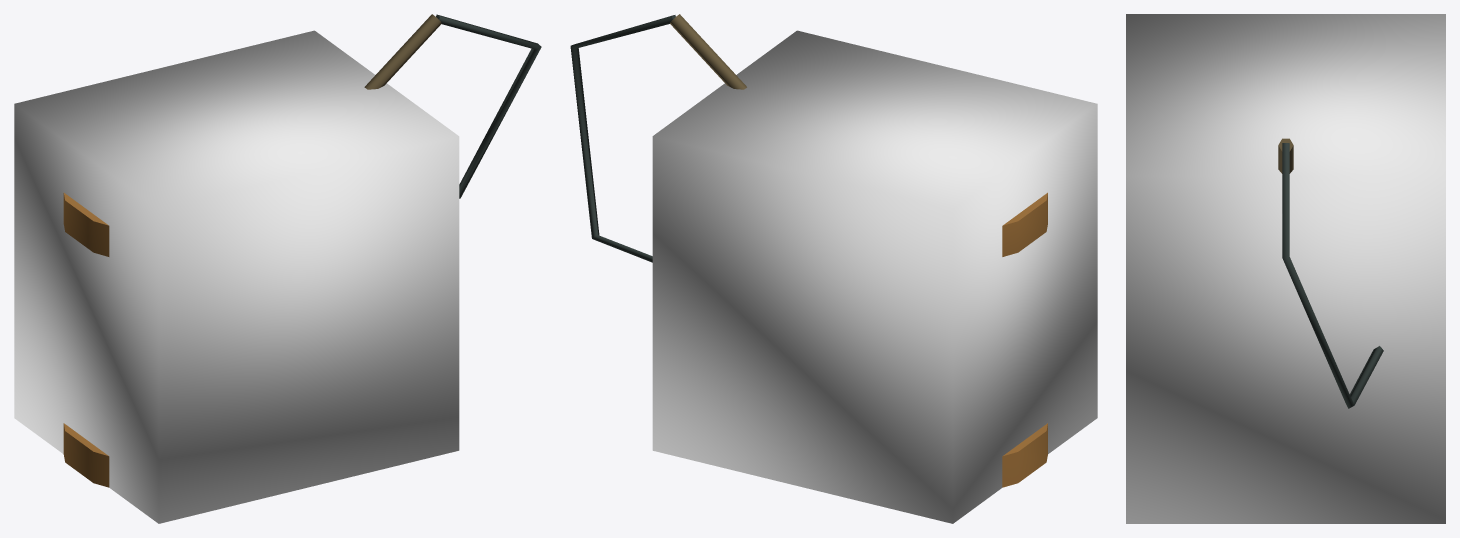
The model's file is aguja_hilo.glb.
3 views of the same model, side by side, from view 1: azimuth 30°, elevation 25°; view 2: azimuth 150°, elevation 25°; view 3: azimuth 270°, elevation 25° (orthographic). The views are drawn at different scales.
Parts seen in each view (by area): view 1: aguja-colcaja, carrete; view 2: aguja-colcaja, carrete; view 3: aguja-colcaja, carrete.
Boxes of the visible parts, x1=… form: aguja-colcaja: x1=14, y1=30, x2=459, y2=523; carrete: x1=63, y1=14, x2=541, y2=487; aguja-colcaja: x1=652, y1=30, x2=1097, y2=523; carrete: x1=570, y1=14, x2=1047, y2=487; aguja-colcaja: x1=1126, y1=14, x2=1445, y2=523; carrete: x1=1278, y1=138, x2=1383, y2=408.
Size of the model in its own units: 0.0921 by 0.0708 by 0.05.
